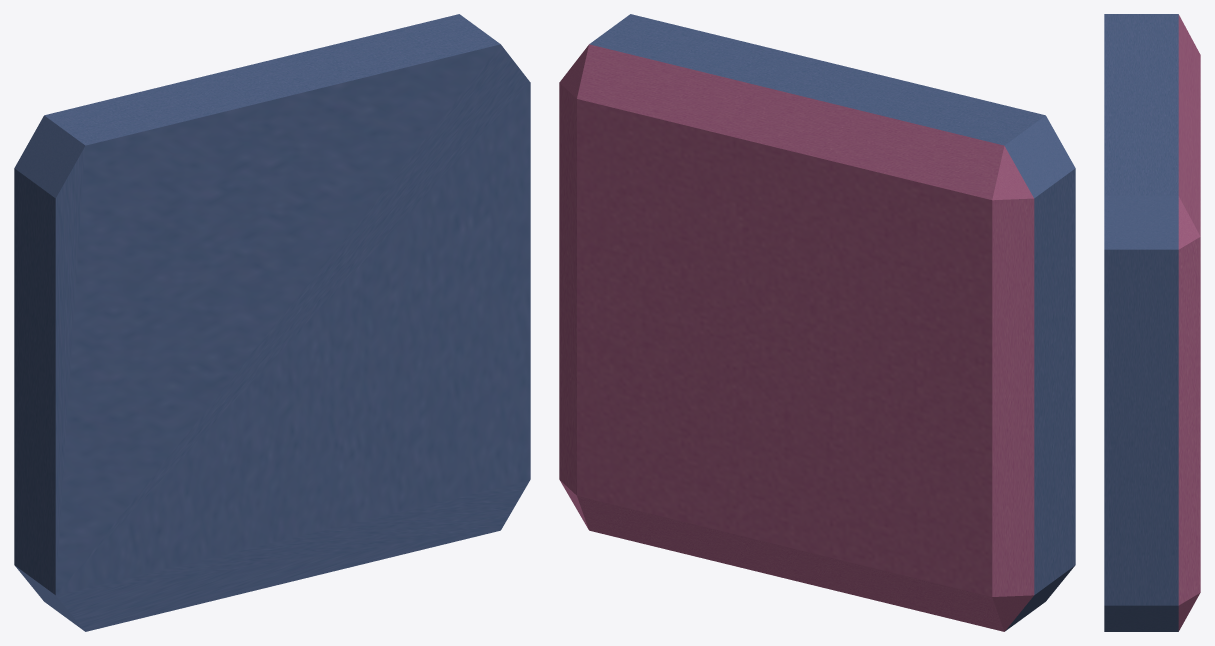
The model's file is de_pink_3.fbx.
3 renders of one model, left to right at view 1: azimuth 30°, elevation 25°; view 2: azimuth 150°, elevation 25°; view 3: azimuth 270°, elevation 25°, orthographic. The views are drawn at different scales.
Parts seen in each view (by area): view 1: Cube.318; view 2: Cube.318; view 3: Cube.318.
Part boxes in pixels (left/top/right/bottom): Cube.318: left=14, top=14, right=530, bottom=631; Cube.318: left=559, top=14, right=1075, bottom=631; Cube.318: left=1104, top=14, right=1200, bottom=631.
Size of the model in its own units: 399 by 390 by 78.
